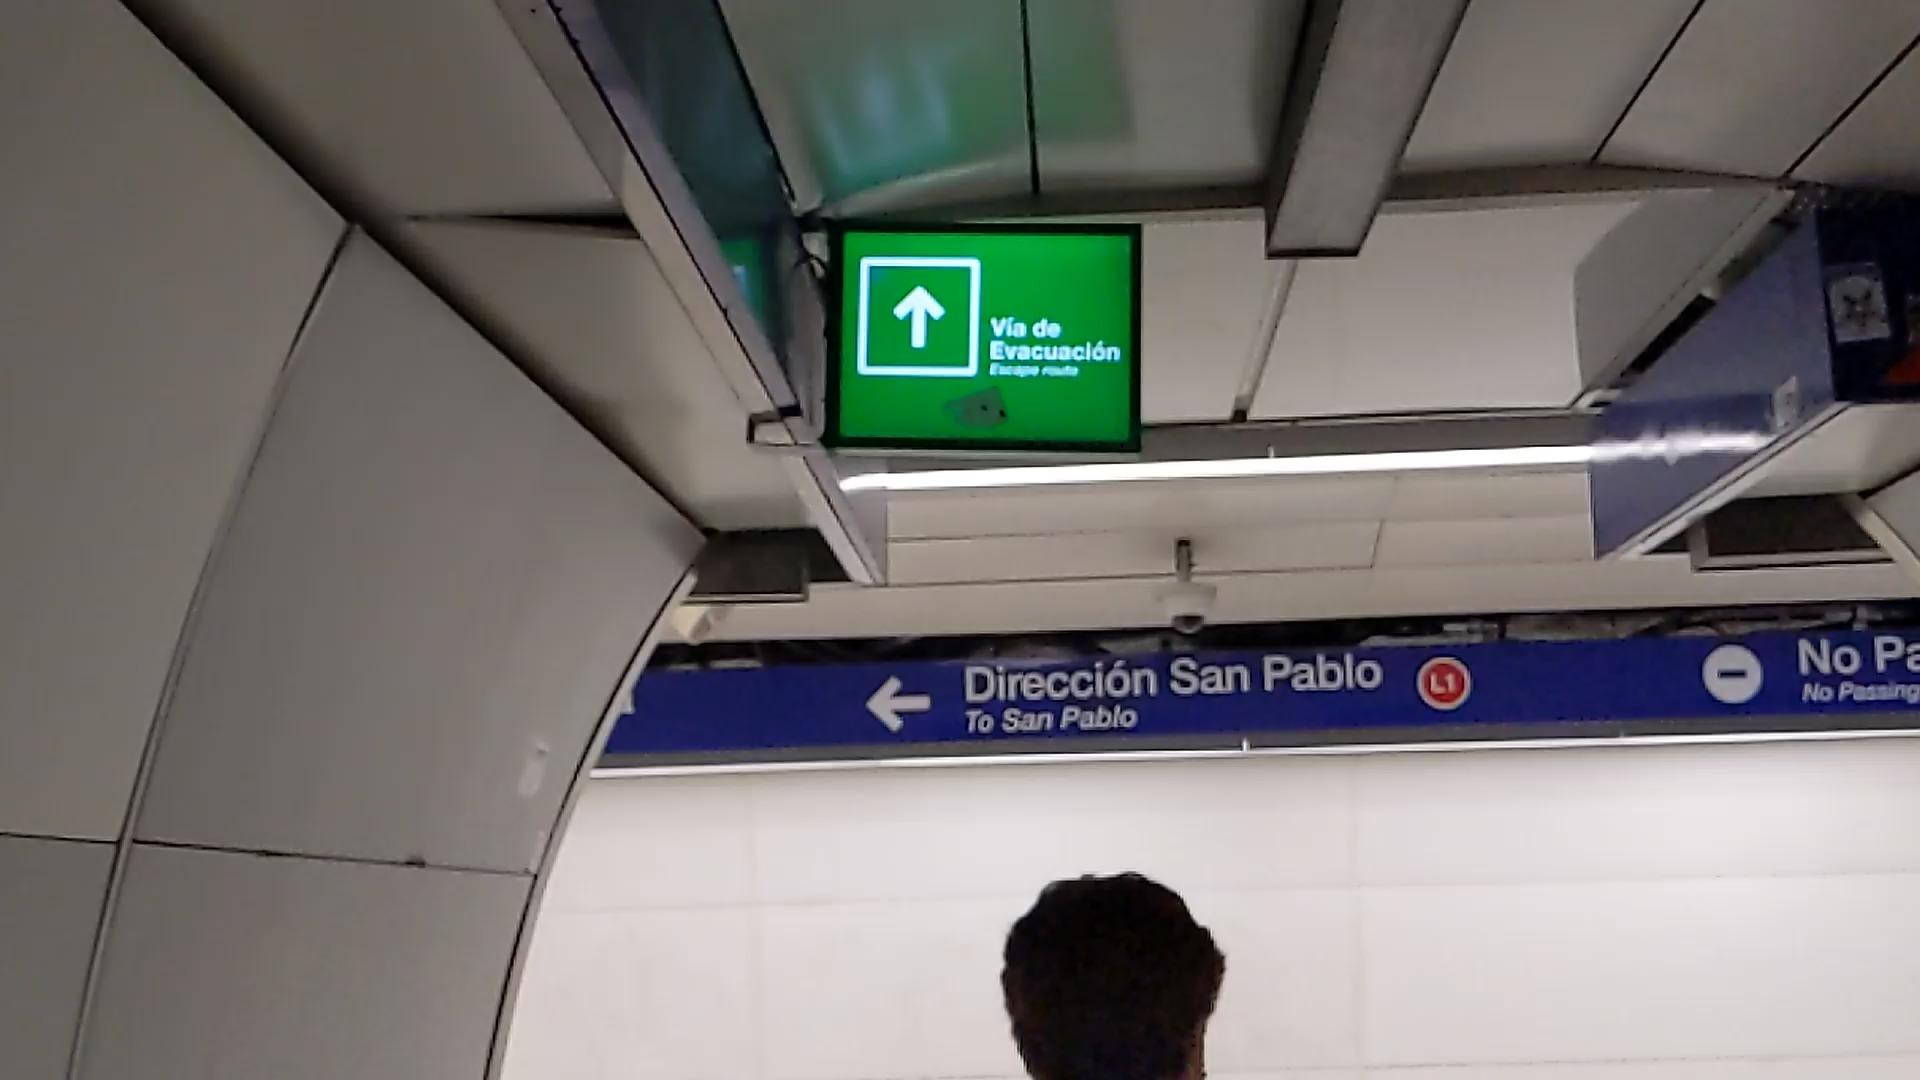emergency up arrow: (891, 284, 948, 351)
left arrow: (865, 674, 934, 733)
